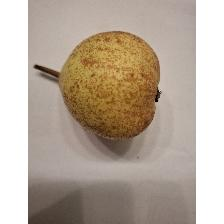Birne: (32, 26, 162, 144)
